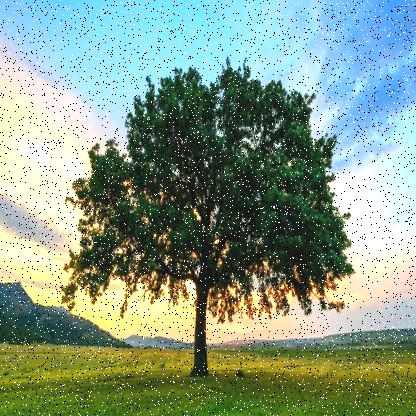Tree: (63, 55, 355, 380)
